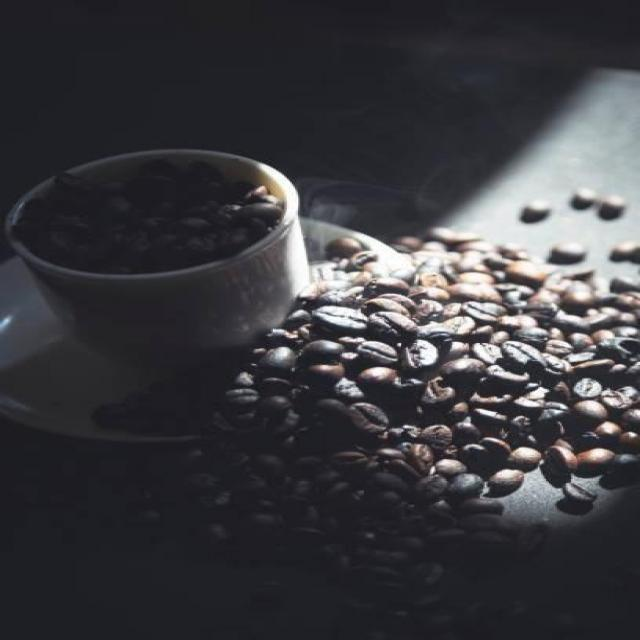cup-handle: (2, 147, 312, 370)
